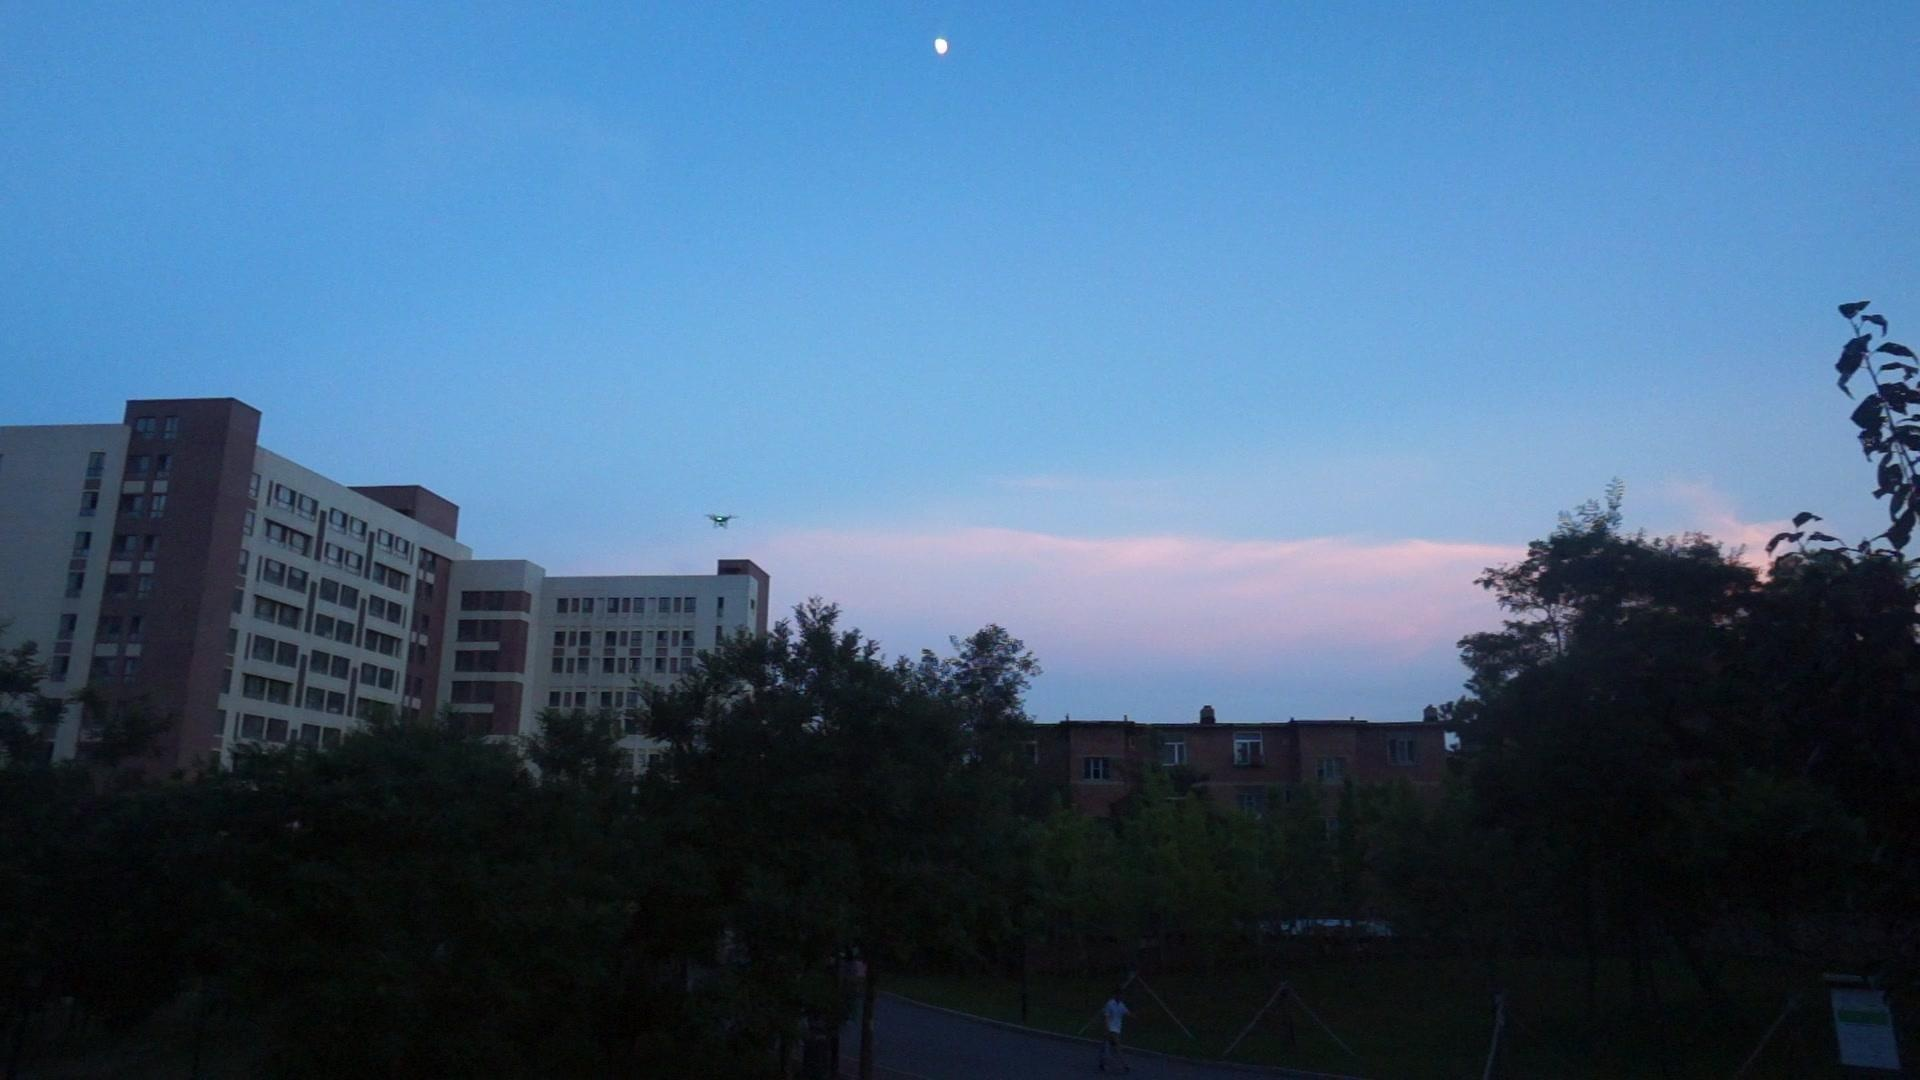UAV: (705, 513, 742, 530)
